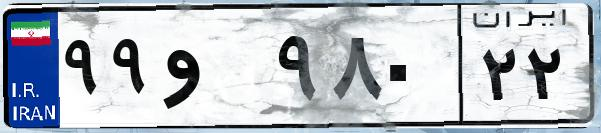0: (385, 28, 445, 110)
2: (475, 38, 525, 113), (525, 38, 570, 115)
8: (330, 28, 385, 110)
9: (270, 28, 330, 110), (57, 26, 110, 100), (110, 28, 158, 98)
و: (158, 20, 270, 120)
